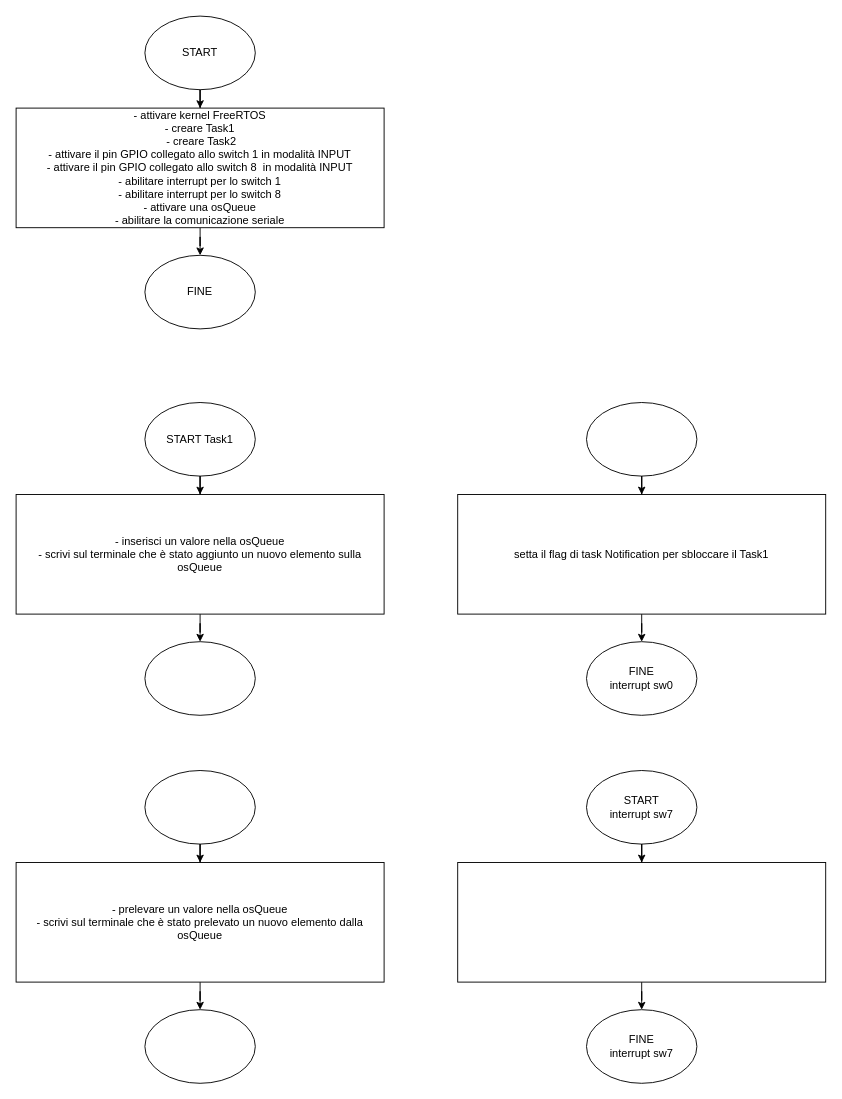
Some shapes in this 842 by 1099 pixel diagram are drawn without their labels. The shapes that lost their labels are listed below. From the top down, each one's centre as x and y in pixels, then its label:
At (x=641, y=439): "START interrupt sw0".
At (x=199, y=678): "FINE Tas1".
At (x=199, y=807): "START Task2".
At (x=641, y=922): "setta il flag di task Notification per sbloccare il Task2".
At (x=199, y=1046): "FINE Tas2".
